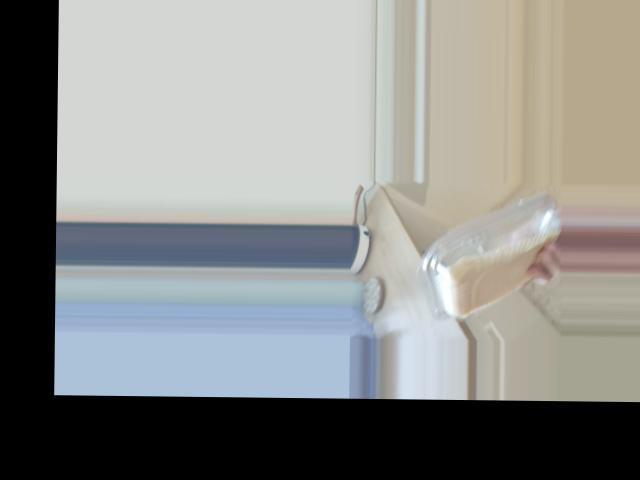cheese: (432, 213, 511, 304)
